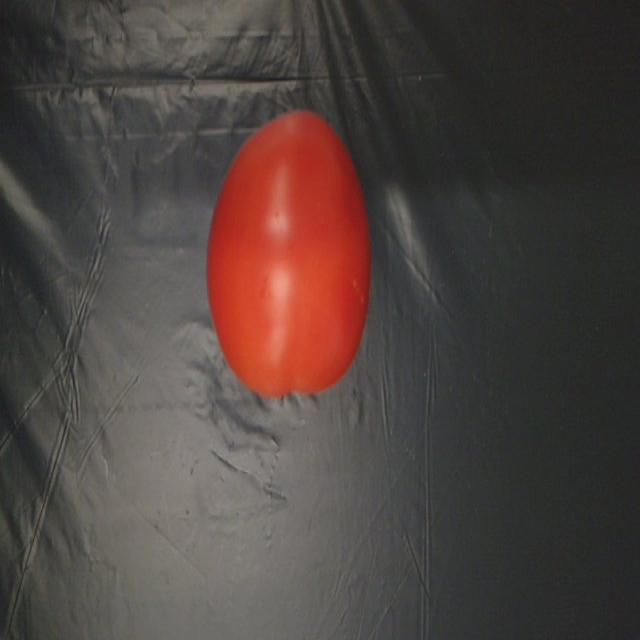kirmizi: (200, 92, 380, 398)
